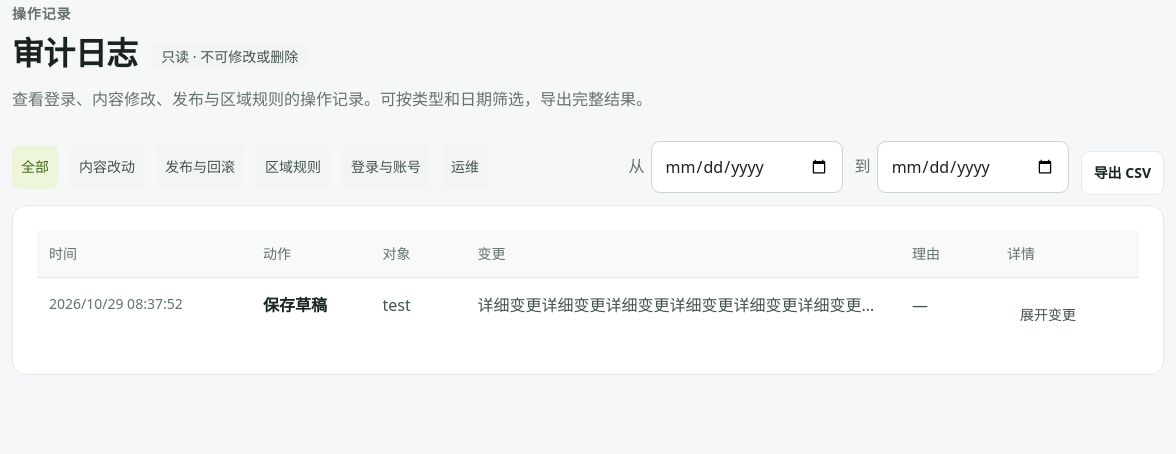
audit filter requests › provides a named native button to expand and collapse a long change
Click the button with aria-label "展开第 9 条变更": (1048, 314) top-left (1007, 292), bottom-right (1089, 336)
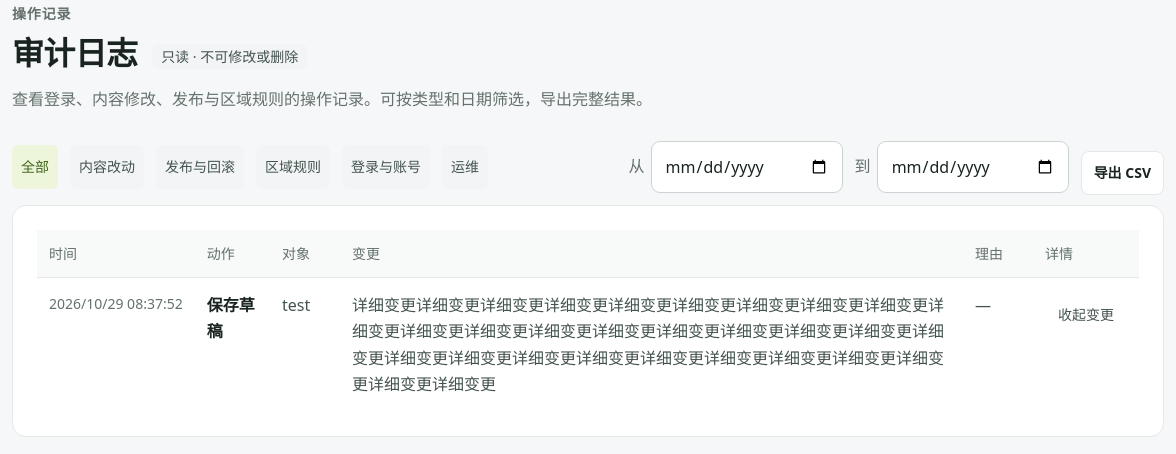
Expected: the button with aria-label "收起第 9 条变更" is expanded
Click the button with aria-label "收起第 9 条变更": (1086, 314) top-left (1045, 292), bottom-right (1127, 336)
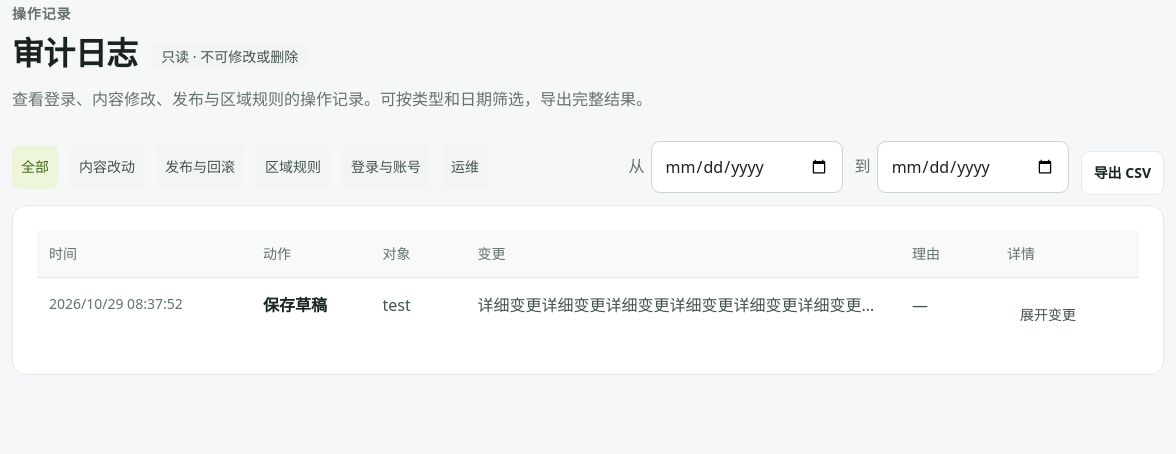
Expected: the button with aria-label "展开第 9 条变更" is collapsed, top-left (1007, 292), bottom-right (1089, 336)
